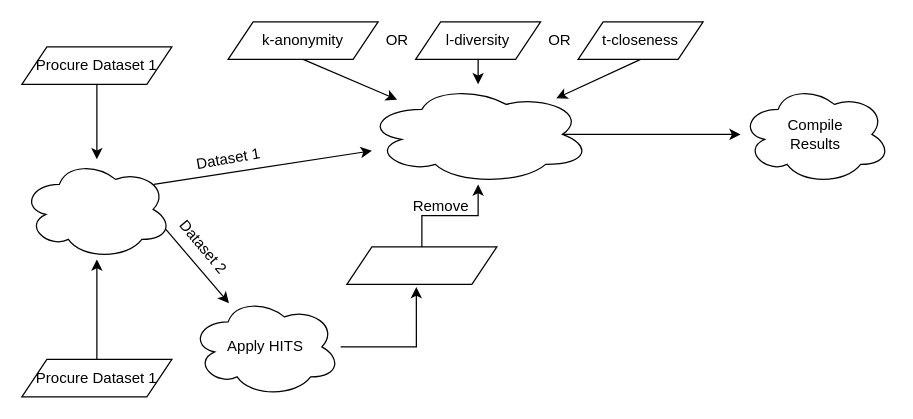
Some shapes in this 913 by 419 pixel diagram are drawn without their labels. The centre of each missing label's shape, as x and y in pixels:
"Dataset" goes at (x=96, y=208).
"Privacy Preserving Techniques" goes at (x=477, y=133).
"Top-Voted" goes at (x=421, y=265).
